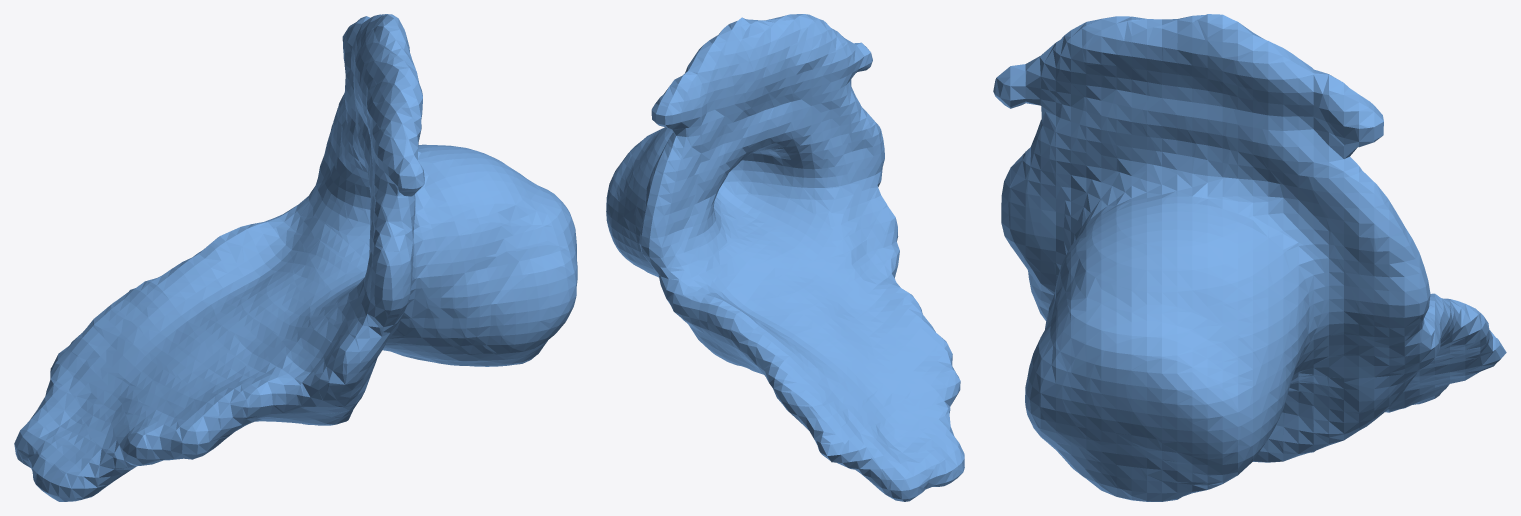
Rendered from water_0025.glb.
3 renders of one model, left to right at view 1: azimuth 30°, elevation 25°; view 2: azimuth 150°, elevation 25°; view 3: azimuth 270°, elevation 25°, orthographic. The views are drawn at different scales.
Visible parts, largest first — view 1: Water_0025; view 2: Water_0025; view 3: Water_0025.
Boxes of the visible parts, box(x1,y1,x2,y2) form: Water_0025: box(14, 14, 577, 501); Water_0025: box(606, 14, 964, 501); Water_0025: box(993, 14, 1506, 501).
Size of the model in its own units: 2.58 by 2.36 by 1.98.
